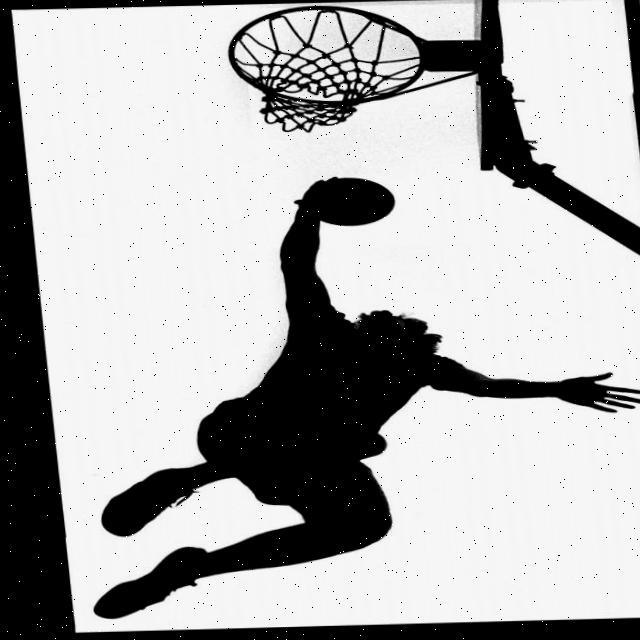Basketball: (309, 177, 398, 227)
hoop: (225, 3, 434, 135)
